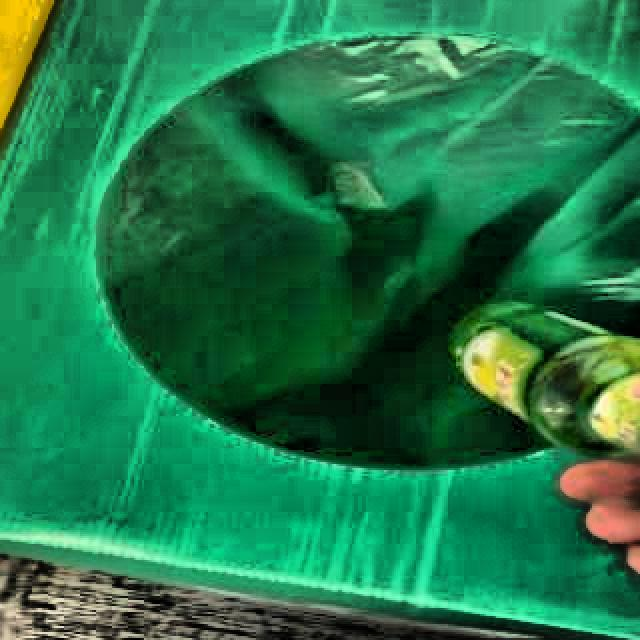glass: (456, 304, 640, 457)
